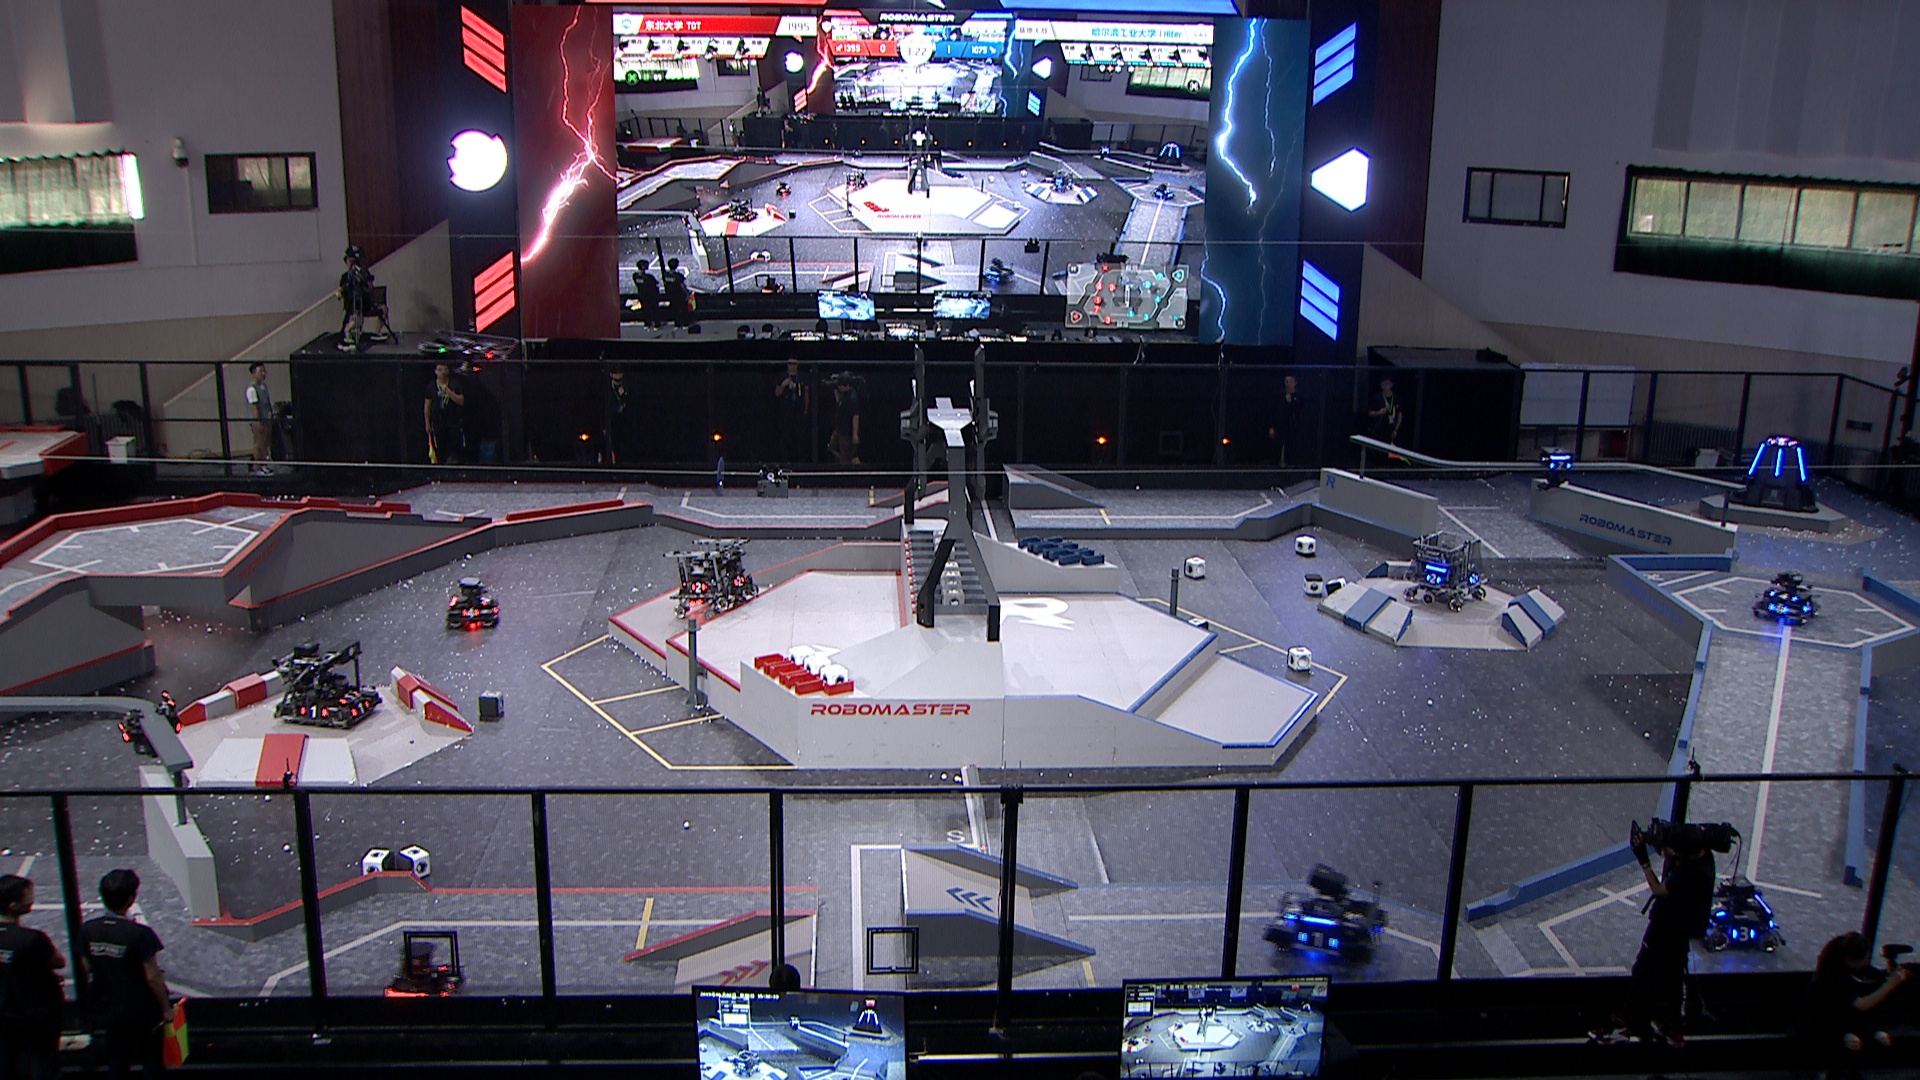armor: (1298, 924, 1344, 953), (297, 702, 334, 723), (439, 972, 462, 1005), (1280, 893, 1305, 922), (1795, 444, 1811, 487), (345, 698, 373, 721), (1747, 443, 1766, 477), (112, 717, 135, 745), (1727, 924, 1756, 944), (1706, 895, 1730, 918), (1768, 588, 1799, 603), (728, 570, 749, 589), (1549, 460, 1575, 475), (338, 687, 359, 704), (1774, 448, 1785, 479), (1766, 603, 1789, 617), (688, 580, 711, 595), (460, 605, 480, 621), (1423, 571, 1443, 585), (475, 593, 493, 608), (1801, 597, 1816, 616), (1466, 570, 1480, 585)
base: (1726, 433, 1820, 514)
car: (1261, 864, 1387, 967), (266, 642, 382, 728), (1685, 874, 1785, 956), (381, 924, 468, 1015), (665, 537, 760, 618), (1400, 527, 1490, 612), (1749, 567, 1822, 628), (440, 575, 502, 632)
ignore: (727, 194, 757, 225), (982, 256, 1015, 284), (1150, 138, 1183, 166), (1046, 167, 1073, 194), (845, 167, 868, 189), (1768, 436, 1799, 448)
watcher: (109, 684, 182, 764), (1534, 442, 1578, 495)
